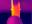Hotspot: (11, 0, 15, 16)
